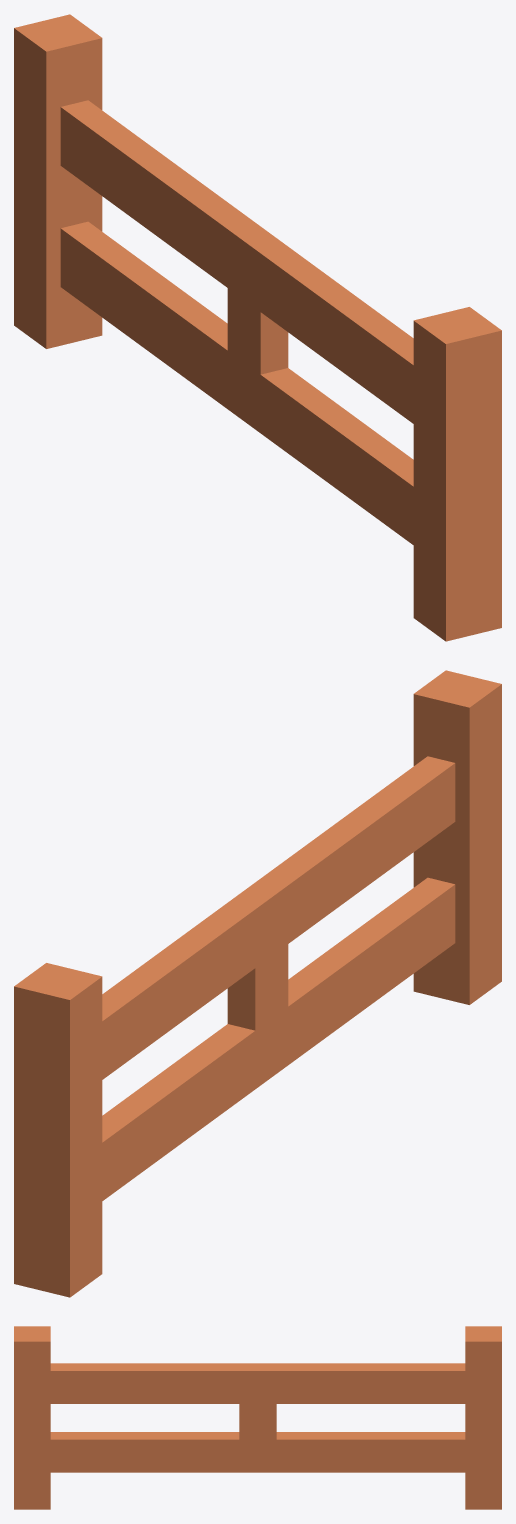
Rendered from fence.obj.
The picture shows the model from 3 angles, top to bottom: view 1: azimuth 30°, elevation 25°; view 2: azimuth 150°, elevation 25°; view 3: azimuth 270°, elevation 25°; orthographic projection. The views are drawn at different scales.
Parts seen in each view (by area): view 1: fence; view 2: fence; view 3: fence.
Part boxes in pixels (x1,y1,x2,y2): fence: [14, 14, 501, 641]; fence: [14, 670, 501, 1297]; fence: [14, 1326, 501, 1509].
Size of the model in its own units: 0.075 by 0.38 by 1.
